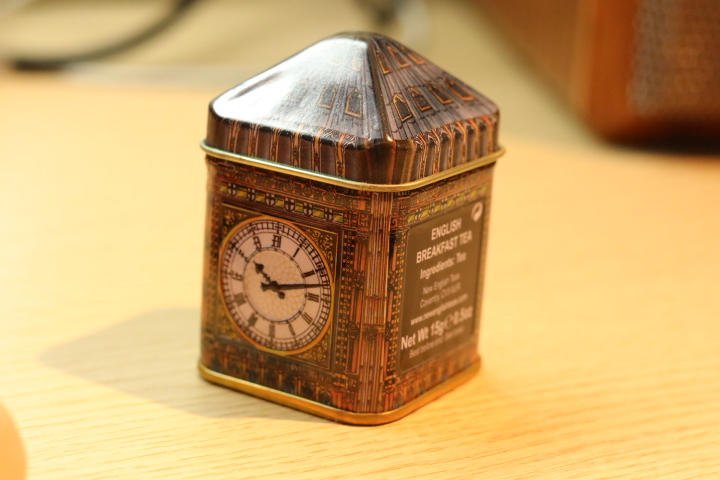Big Ben: (189, 24, 530, 433)
